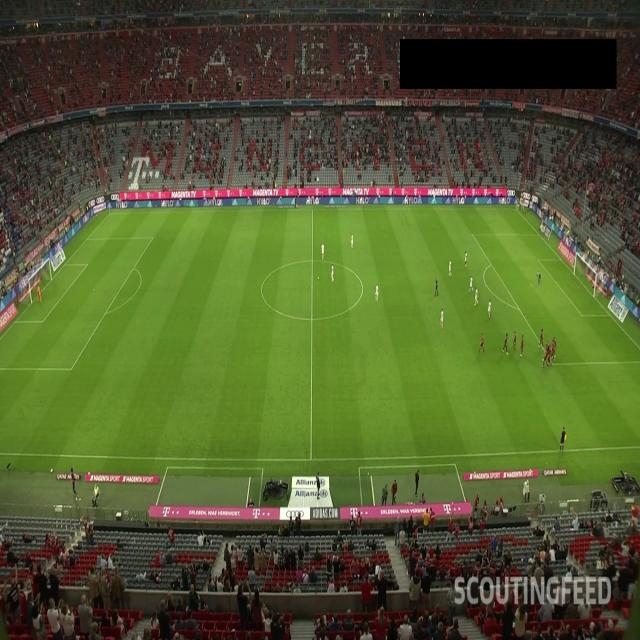ball: (316, 275, 320, 281)
player: (36, 286, 43, 306), (503, 332, 509, 354), (439, 307, 445, 329), (330, 264, 336, 283), (474, 289, 480, 306), (513, 331, 518, 350), (448, 258, 453, 276), (553, 336, 557, 358), (540, 327, 544, 349), (520, 335, 524, 357), (536, 270, 542, 284), (548, 346, 552, 366), (376, 282, 380, 302), (480, 333, 484, 351), (469, 275, 473, 293), (320, 242, 324, 260), (544, 350, 548, 367), (464, 250, 468, 266), (350, 232, 354, 248), (546, 341, 549, 359), (552, 340, 554, 361), (488, 299, 490, 318), (329, 263, 332, 269)
